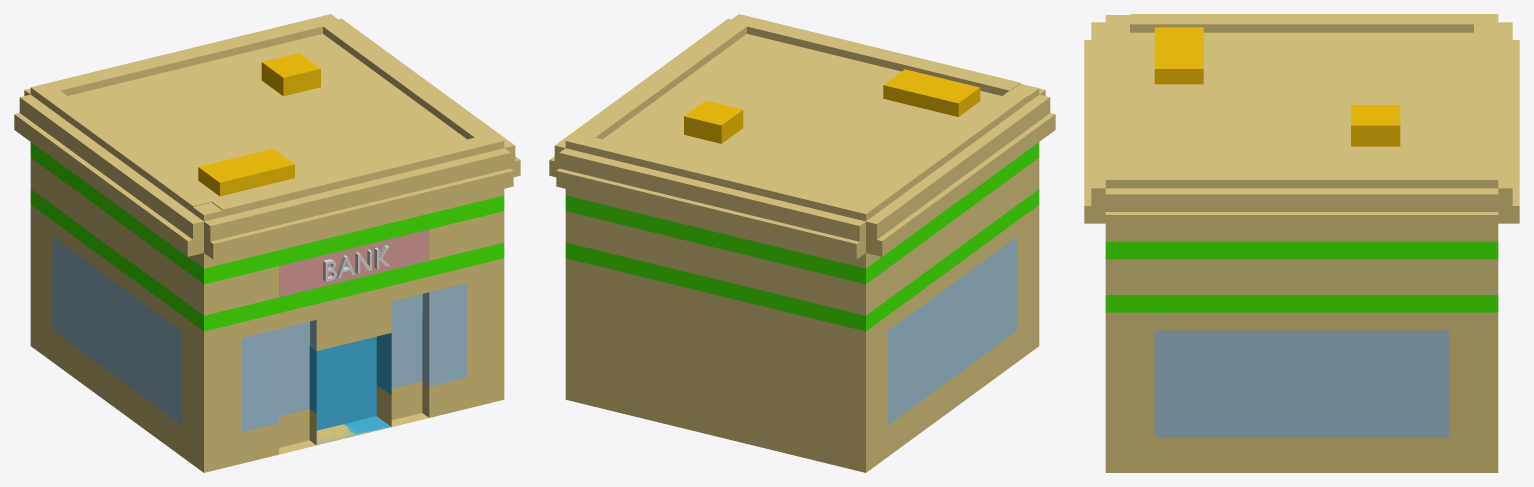
File: blueShop.fbx
The picture shows the model from 3 angles, left to right: view 1: azimuth 30°, elevation 25°; view 2: azimuth 150°, elevation 25°; view 3: azimuth 270°, elevation 25°; orthographic projection. The views are drawn at different scales.
Visible parts, largest first — view 1: Shop, bankSign1; view 2: Shop; view 3: Shop.
Boxes of the visible parts, x1,y1,x2,y2 form: Shop: (14, 14, 520, 472); bankSign1: (323, 245, 389, 281); Shop: (549, 14, 1055, 472); Shop: (1084, 14, 1519, 472).
Size of the model in its own units: 11.08 by 8.59 by 11.08.
